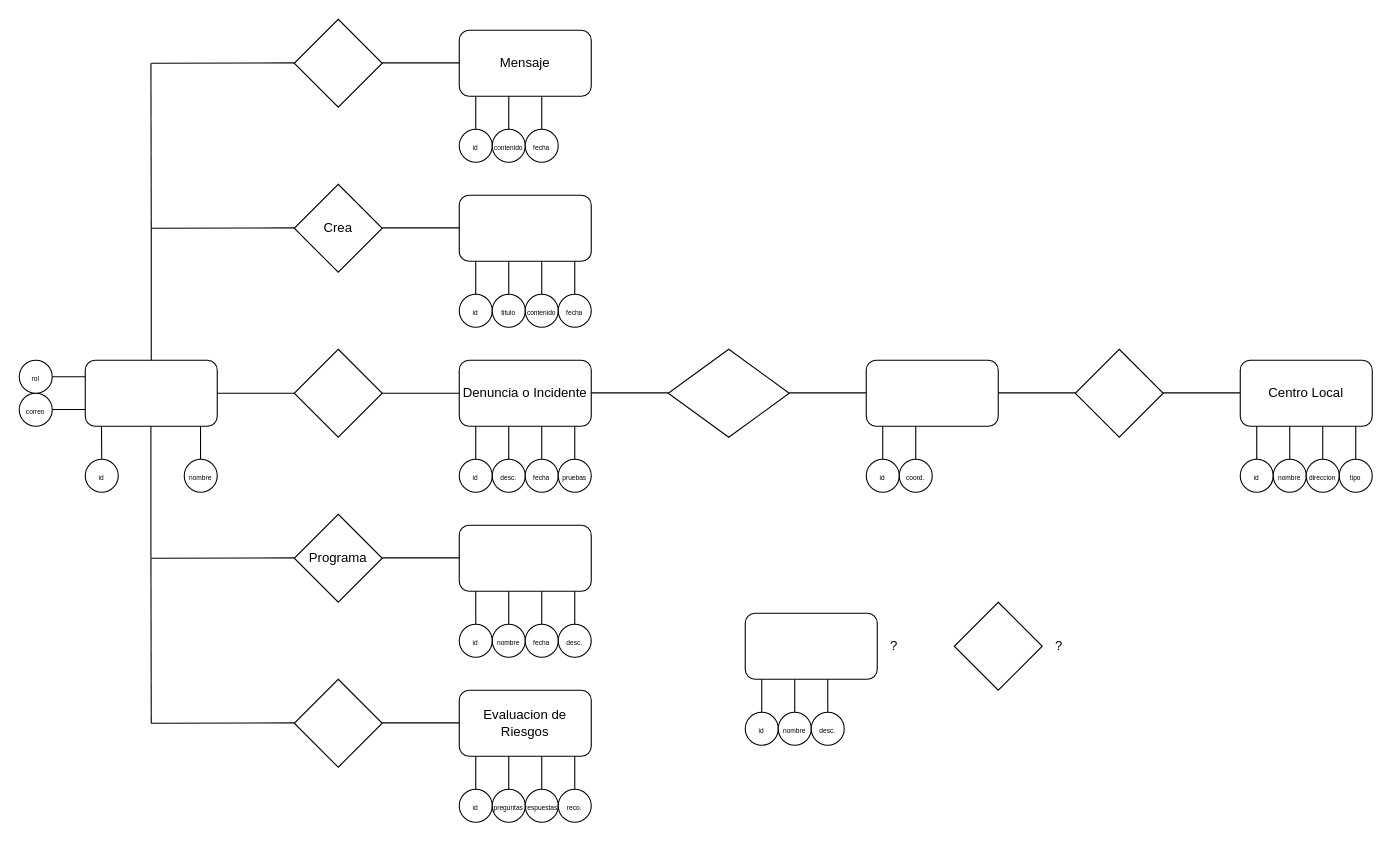
Some shapes in this 1392 by 842 pixel diagram are drawn without their labels. The shapes that lost their labels are listed below. From the top down, each one's centre as x and y in pixels, then its label:
At [337,62]: "Envia/Recibe".
At [524,227]: "Articulo Informativo".
At [150,392]: "Usuario".
At [337,392]: "Registra".
At [728,392]: "Esta asociado a".
At [931,392]: "Ubicacion".
At [1118,392]: "Tiene".
At [524,557]: "Evento en Linea".
At [810,645]: "Ley".
At [997,645]: "Envia".
At [337,722]: "Completa".
